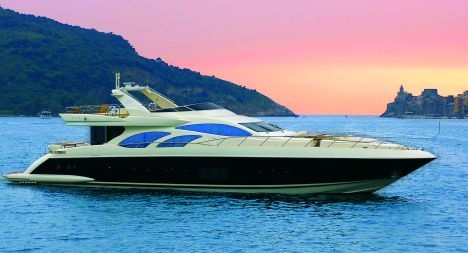yacht: (10, 67, 433, 194)
